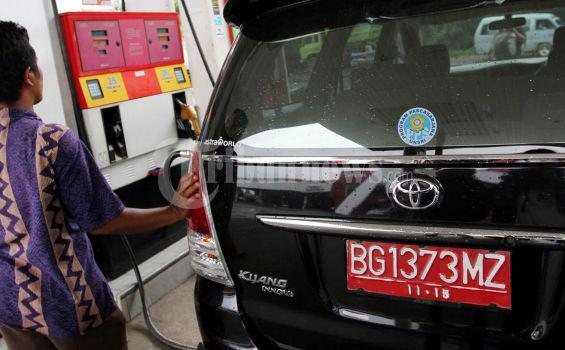plate: (346, 235, 513, 311)
